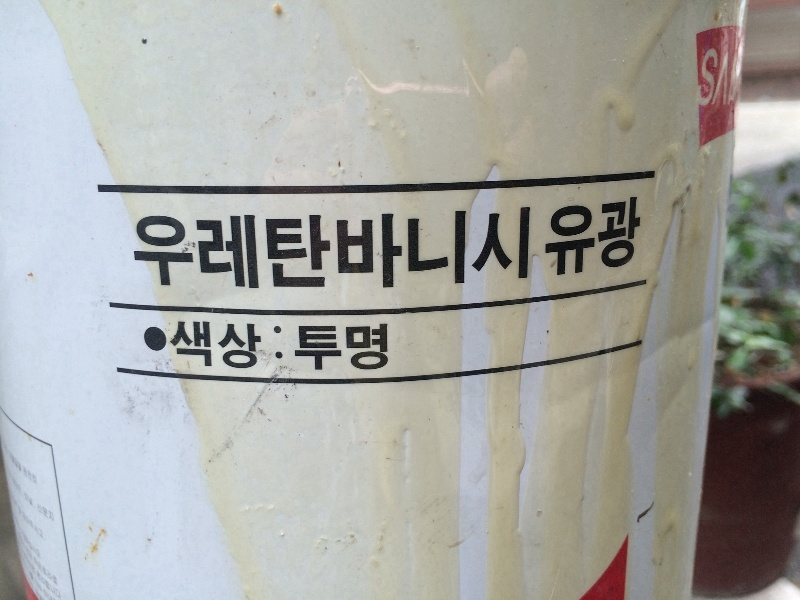text: (145, 193, 160, 299), (161, 193, 176, 299), (177, 193, 192, 299), (193, 193, 208, 299), (209, 193, 224, 299), (225, 193, 240, 299), (241, 193, 256, 299), (257, 193, 272, 299), (273, 193, 288, 299), (289, 193, 304, 299), (305, 193, 320, 299), (321, 193, 336, 299), (337, 193, 352, 299), (353, 193, 368, 299), (369, 193, 384, 299), (385, 193, 400, 299), (401, 193, 416, 299), (417, 193, 432, 299), (433, 193, 448, 299), (449, 193, 464, 299), (465, 193, 480, 299), (481, 193, 496, 299), (497, 193, 512, 299), (513, 193, 528, 299), (529, 193, 544, 299), (545, 193, 560, 299), (561, 193, 576, 299), (577, 193, 592, 299), (593, 193, 608, 299), (609, 193, 624, 299), (625, 193, 640, 299), (132, 193, 144, 299), (705, 43, 720, 112), (721, 43, 734, 112), (177, 317, 192, 373), (193, 317, 208, 373), (209, 317, 224, 373), (225, 317, 240, 373), (241, 317, 256, 373), (17, 468, 32, 522), (33, 468, 48, 522), (305, 322, 320, 375), (321, 322, 336, 375), (337, 322, 352, 375), (353, 322, 368, 375), (369, 322, 384, 375), (17, 491, 32, 541), (641, 193, 648, 299), (33, 538, 48, 587), (1, 438, 16, 486), (17, 438, 32, 486), (33, 554, 48, 600), (17, 518, 32, 558), (49, 554, 62, 600), (20, 538, 32, 587), (293, 322, 304, 375), (33, 491, 44, 541), (49, 538, 58, 587), (8, 468, 16, 522), (33, 571, 48, 599), (273, 325, 284, 361), (24, 554, 32, 600), (170, 317, 176, 373), (257, 317, 263, 373), (49, 468, 55, 522), (33, 518, 41, 558), (10, 491, 16, 541), (385, 322, 390, 375), (33, 438, 38, 486), (49, 571, 55, 599), (28, 571, 32, 599), (15, 518, 16, 558)
